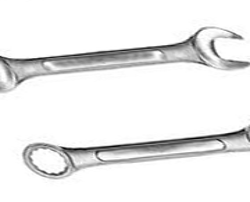Wrench: (2, 17, 250, 85)
